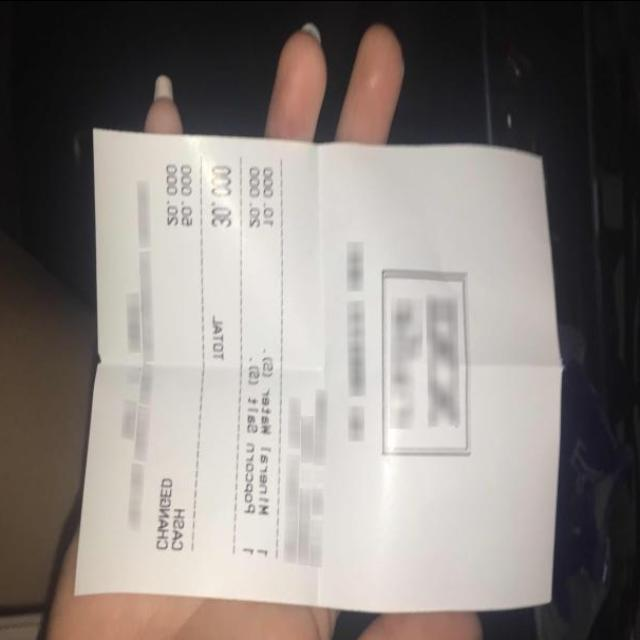kertas: (74, 128, 572, 618)
